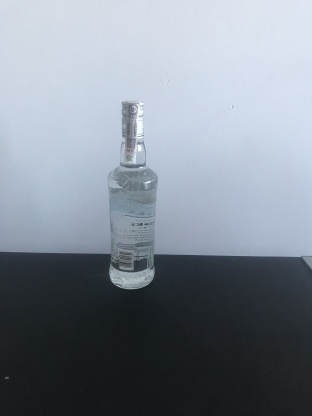nakretka: (118, 96, 146, 141)
